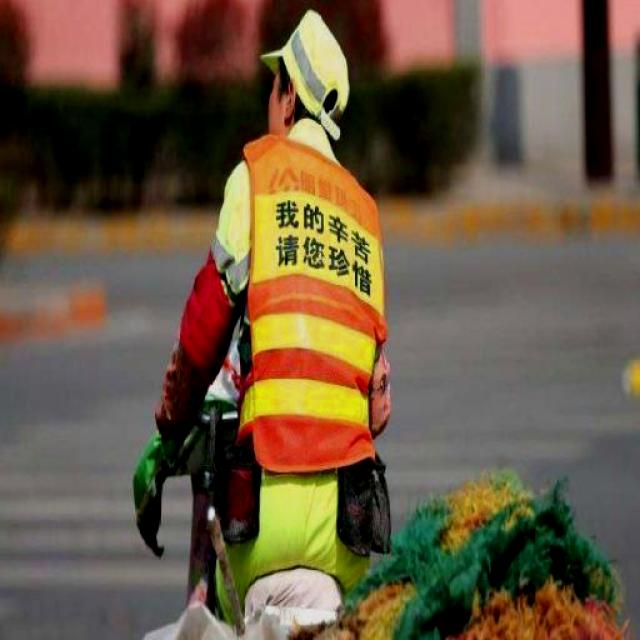head_nohelmet: (260, 10, 349, 114)
person: (130, 11, 408, 602)
vest: (236, 131, 386, 483)
